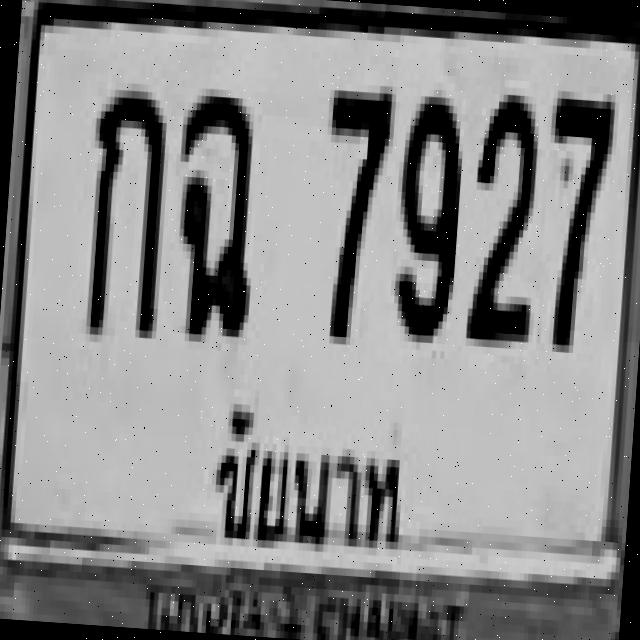10GorGai: (78, 80, 168, 330)
18ChorChing: (166, 87, 262, 337)
2: (462, 85, 541, 342)
7: (313, 82, 392, 339), (535, 90, 611, 347)
9: (388, 87, 462, 336)
ChaiNat: (188, 386, 426, 570)
